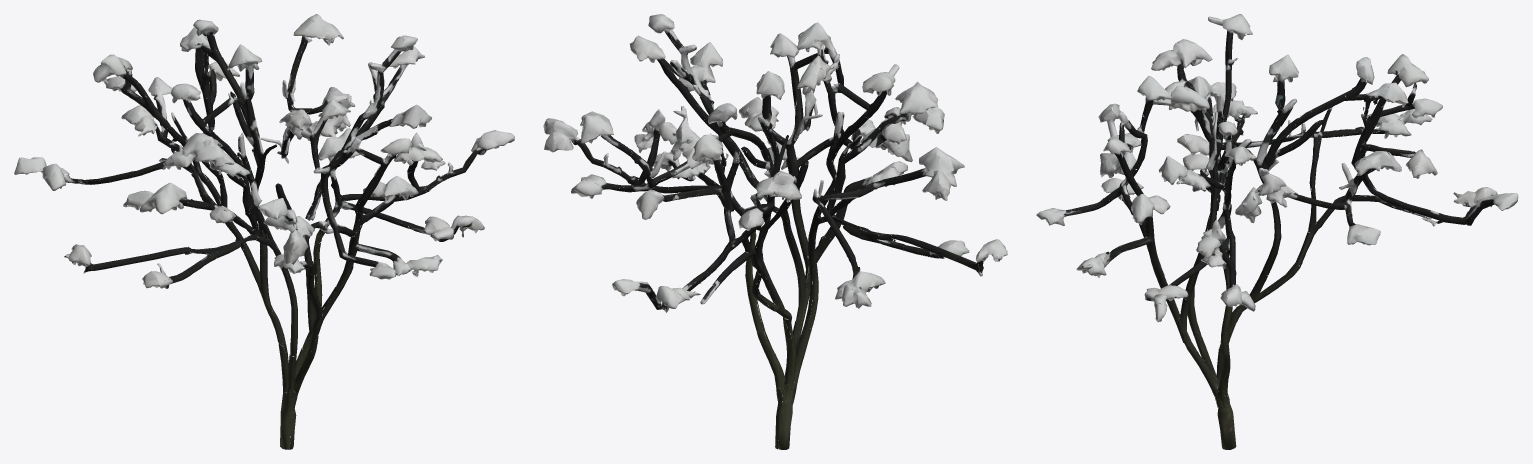
The model's file is flowering-tree-tripo.glb.
The picture shows the model from 3 angles, left to right: view 1: azimuth 30°, elevation 25°; view 2: azimuth 150°, elevation 25°; view 3: azimuth 270°, elevation 25°; orthographic projection. The views are drawn at different scales.
Visible parts, largest first — view 1: tripo_node_a7c558be-b604-45e3-8e01-db3e10dcdd70; view 2: tripo_node_a7c558be-b604-45e3-8e01-db3e10dcdd70; view 3: tripo_node_a7c558be-b604-45e3-8e01-db3e10dcdd70.
Part boxes in pixels (bbox=[...]): tripo_node_a7c558be-b604-45e3-8e01-db3e10dcdd70: bbox=[14, 14, 514, 449]; tripo_node_a7c558be-b604-45e3-8e01-db3e10dcdd70: bbox=[543, 14, 1007, 449]; tripo_node_a7c558be-b604-45e3-8e01-db3e10dcdd70: bbox=[1036, 14, 1518, 449].
Bounding box in the file's own units: 5.06 × 4.2 × 4.77.
Materials: 1 (1 with a texture image).
